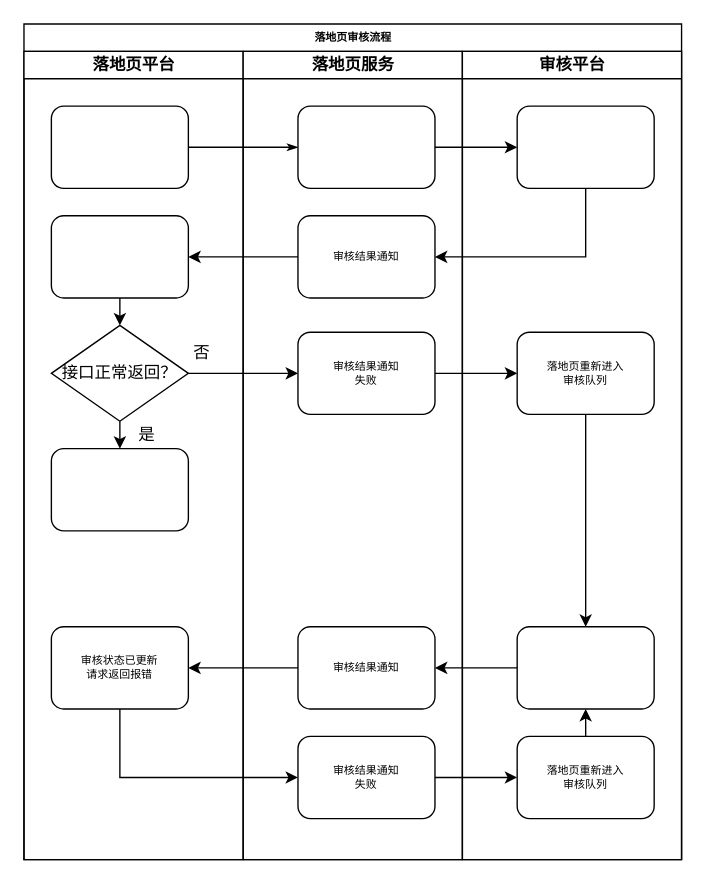
Image size: 706x884. Some labels were removed from this diagram. The shapes that lost their labels are listed below. From the top down, each one's box as (x1, y1, x2, y2) in pixels, then its label:
(50, 105, 188, 188): 提交审核
(297, 105, 435, 188): 落地页推送到 审核队列
(516, 105, 654, 188): 人工审核
(50, 214, 188, 298): 审核状态更新
(50, 447, 188, 531): 流程正常结束
(516, 625, 654, 709): 重新审核
